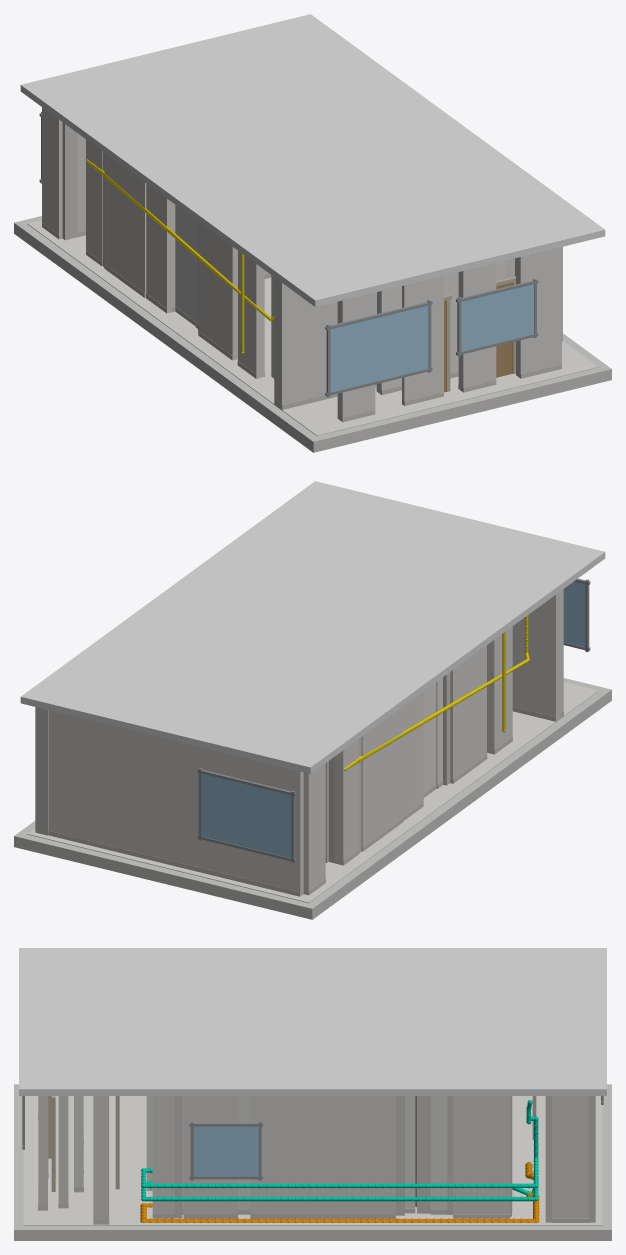
Rendered from bim_35de45695755.glb.
3 renders of one model, top to bottom at view 1: azimuth 30°, elevation 25°; view 2: azimuth 150°, elevation 25°; view 3: azimuth 270°, elevation 25°, orthographic.
Visible parts, largest first — view 1: arch_geometry_1, arch_geometry_0, arch_geometry_246, arch_geometry_194, arch_geometry_6, arch_geometry_38, arch_geometry_50, arch_geometry_14, arch_geometry_251, arch_geometry_116, arch_geometry_66, arch_geometry_24 (+14 smaller); view 2: arch_geometry_1, arch_geometry_12, arch_geometry_0, arch_geometry_256, arch_geometry_4, arch_geometry_38, arch_geometry_50, arch_geometry_194, arch_geometry_82, arch_geometry_44, arch_geometry_24, arch_geometry_116 (+10 smaller); view 3: arch_geometry_1, arch_geometry_16, arch_geometry_0, arch_geometry_195, arch_geometry_86, arch_geometry_68, arch_geometry_194, arch_geometry_74, arch_geometry_261, arch_geometry_197, arch_geometry_84, mep_plumb_sup_plumb_sup_f0edec (+21 smaller).
Boxes of the visible parts, <box> form: arch_geometry_1: <box>20,14,605,306</box>; arch_geometry_0: <box>14,216,611,452</box>; arch_geometry_246: <box>330,305,428,392</box>; arch_geometry_194: <box>124,277,463,436</box>; arch_geometry_6: <box>277,246,562,409</box>; arch_geometry_38: <box>104,153,146,297</box>; arch_geometry_50: <box>198,222,237,360</box>; arch_geometry_14: <box>516,247,561,373</box>; arch_geometry_251: <box>461,284,533,351</box>; arch_geometry_116: <box>146,183,175,313</box>; arch_geometry_66: <box>402,276,443,404</box>; arch_geometry_24: <box>238,251,264,378</box>; arch_geometry_1: <box>20,481,605,773</box>; arch_geometry_12: <box>48,710,303,896</box>; arch_geometry_0: <box>14,678,611,919</box>; arch_geometry_256: <box>201,773,291,858</box>; arch_geometry_4: <box>512,591,560,721</box>; arch_geometry_38: <box>361,707,402,851</box>; arch_geometry_50: <box>450,645,486,780</box>; arch_geometry_194: <box>394,682,598,831</box>; arch_geometry_82: <box>335,739,359,864</box>; arch_geometry_44: <box>303,763,325,895</box>; arch_geometry_24: <box>487,626,512,754</box>; arch_geometry_116: <box>403,691,423,816</box>; arch_geometry_1: <box>19,948,606,1095</box>; arch_geometry_16: <box>250,1096,395,1214</box>; arch_geometry_0: <box>14,1084,611,1240</box>; arch_geometry_195: <box>23,1159,409,1225</box>; arch_geometry_86: <box>453,1096,510,1213</box>; arch_geometry_68: <box>552,1096,588,1218</box>; arch_geometry_194: <box>23,1096,146,1158</box>; arch_geometry_74: <box>183,1096,237,1214</box>; arch_geometry_261: <box>193,1126,258,1176</box>; arch_geometry_197: <box>409,1159,602,1225</box>; arch_geometry_84: <box>152,1096,174,1213</box>; mep_plumb_sup_plumb_sup_f0edec: <box>141,1157,538,1193</box>.
Size of the model in its own units: 7.1 by 3.4 by 12.34.
